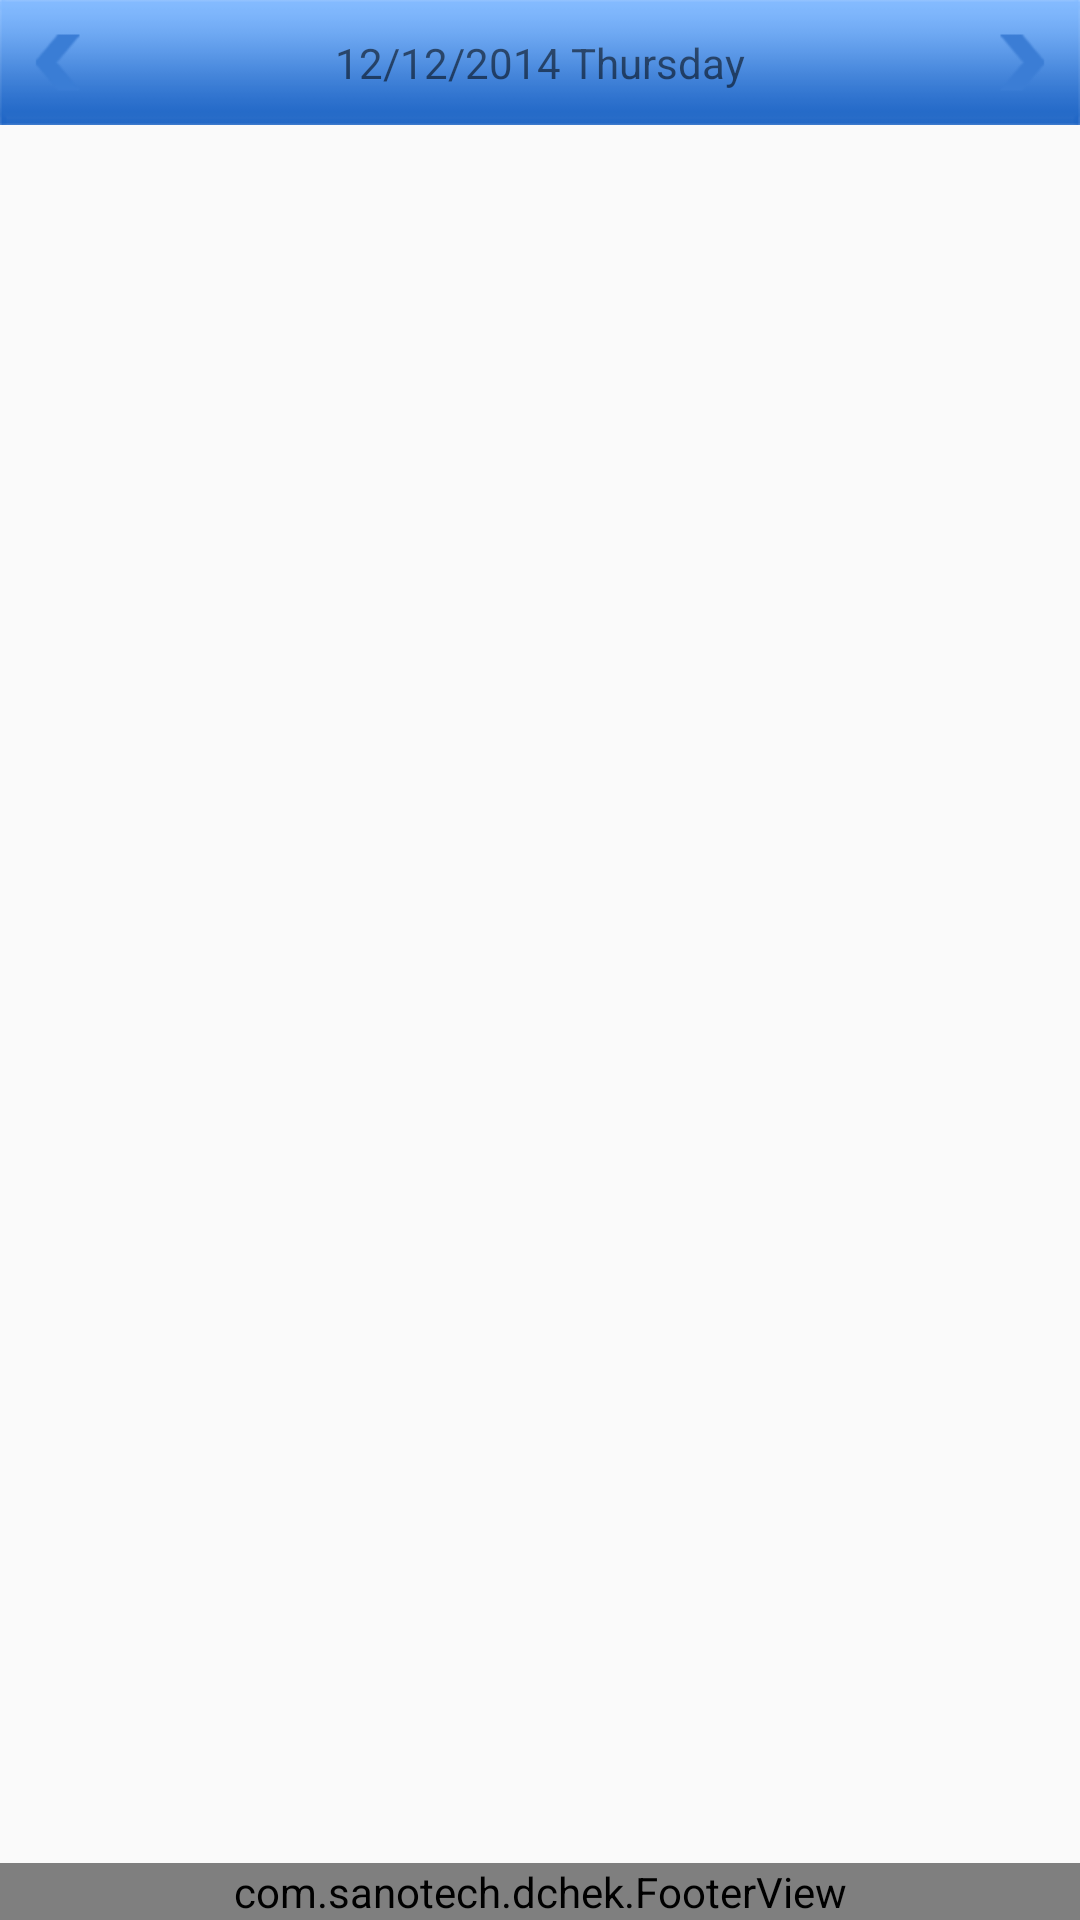

Point at icon controls on the screen. Image size 1080px×1920px, points as point (x, y).
left arrow: point (58, 62)
right arrow: point (1021, 62)
